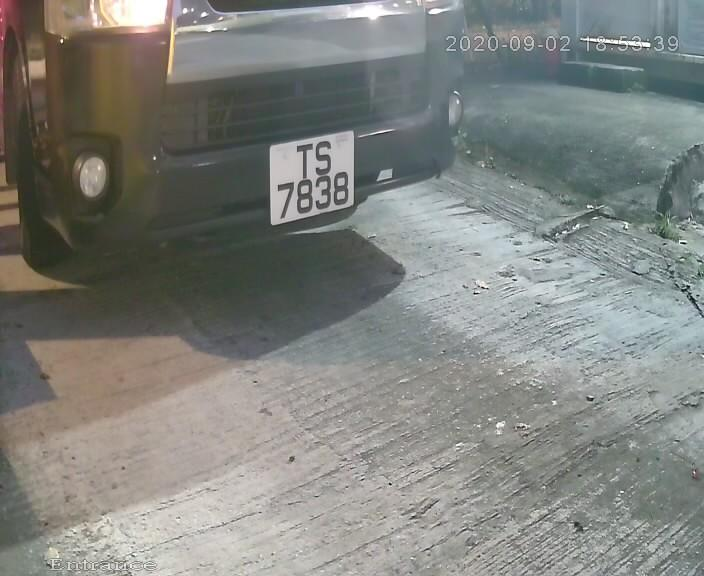License Plate: (258, 127, 368, 235)
